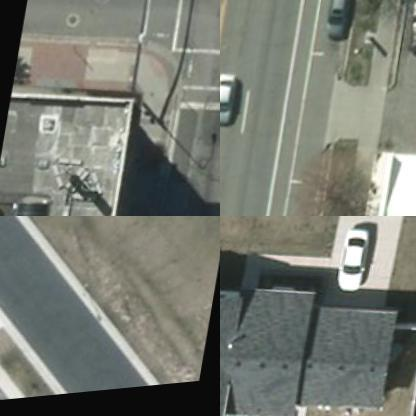car: (332, 233, 372, 306), (323, 0, 353, 41), (220, 76, 241, 131), (403, 0, 415, 61)
